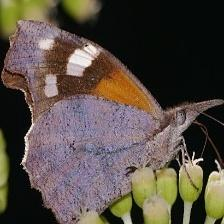butterfly: (2, 21, 224, 224)
